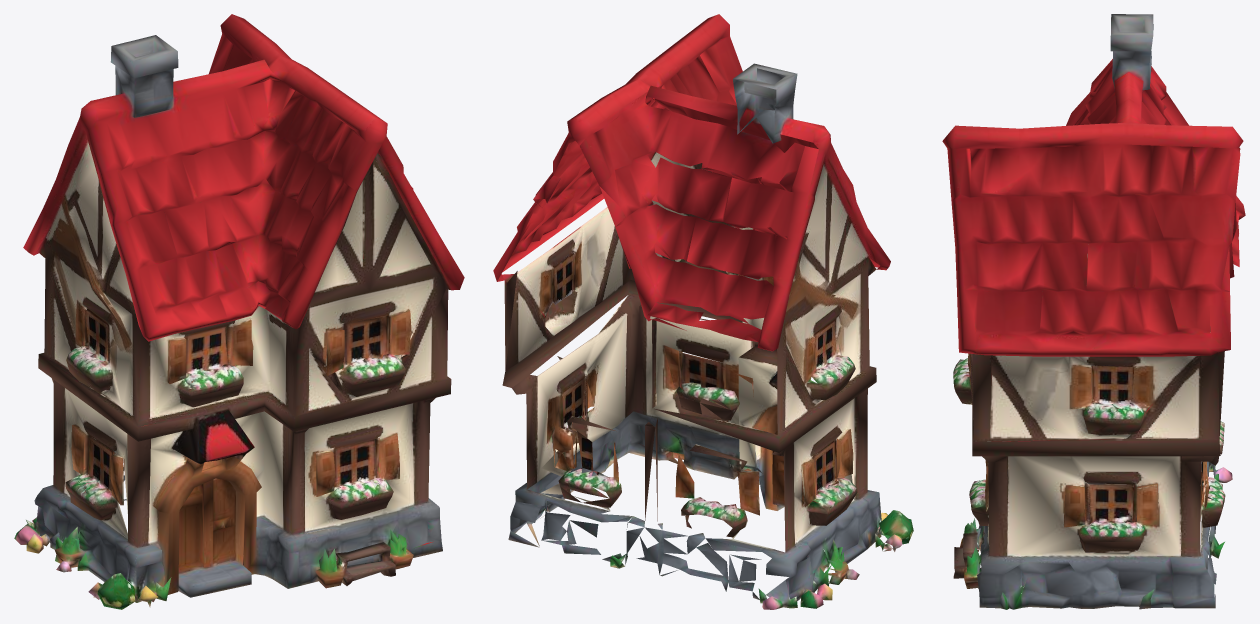
Rendered from house_terra_6_facadeA.glb.
The picture shows the model from 3 angles, left to right: view 1: azimuth 30°, elevation 25°; view 2: azimuth 150°, elevation 25°; view 3: azimuth 270°, elevation 25°; orthographic projection. The views are drawn at different scales.
Parts seen in each view (by area): view 1: facadeA; view 2: facadeA; view 3: facadeA.
Boxes of the visible parts, box(x1,y1,x2,y2) form: facadeA: box(14, 14, 464, 609); facadeA: box(493, 14, 913, 609); facadeA: box(942, 14, 1245, 609).
Bounding box in the file's own units: 1.48 × 2.1 × 1.2.
Materials: 1 (1 with a texture image).
